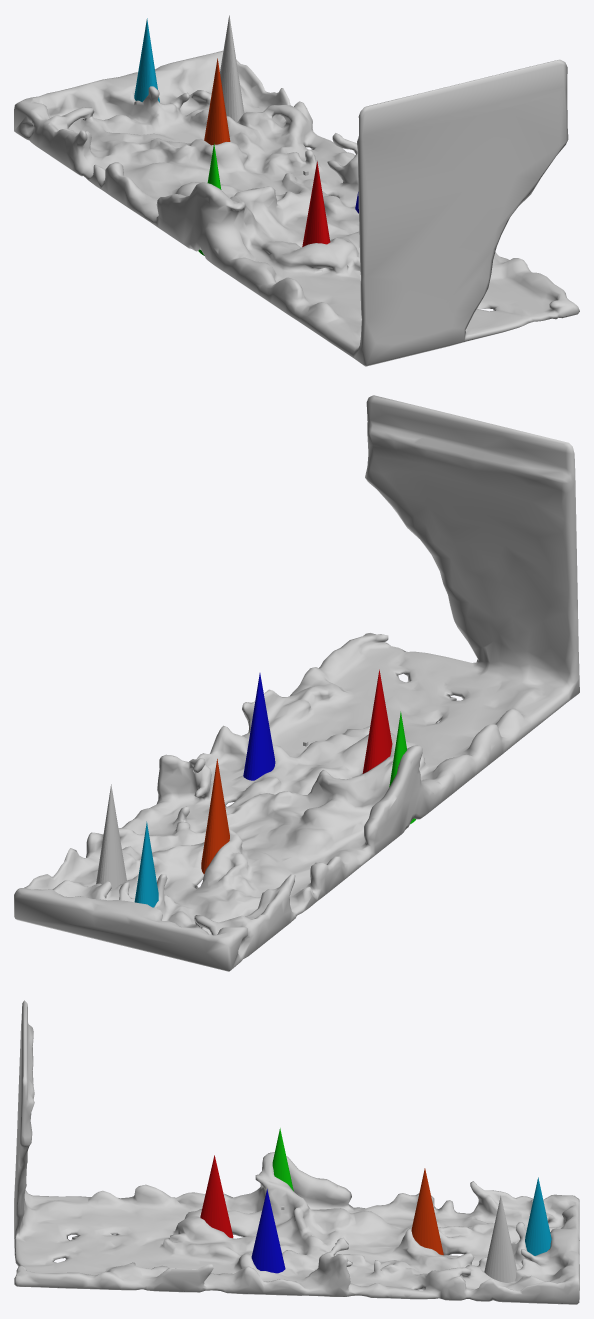
The picture shows the model from 3 angles, top to bottom: view 1: azimuth 30°, elevation 25°; view 2: azimuth 150°, elevation 25°; view 3: azimuth 270°, elevation 25°; orthographic projection. The views are drawn at different scales.
Visible parts, largest first — view 1: Liquid_Domain, 円錐, 円錐.001, 円錐.004, 円錐.005; view 2: Liquid_Domain, 円錐.002, 円錐, 円錐.004, 円錐.001, 円錐.005; view 3: Liquid_Domain, 円錐, 円錐.002, 円錐.004, 円錐.001, 円錐.005, 円錐.003.
Part boxes in pixels (x1,y1,x2,y2): Liquid_Domain: (14, 50, 579, 366); 円錐: (220, 15, 244, 122); 円錐.001: (302, 161, 330, 246); 円錐.004: (204, 58, 230, 145); 円錐.005: (134, 18, 159, 102); Liquid_Domain: (14, 395, 579, 971); 円錐.002: (243, 673, 275, 780); 円錐: (96, 784, 126, 890); 円錐.004: (201, 759, 229, 873); 円錐.001: (362, 669, 392, 773); 円錐.005: (134, 821, 158, 907); Liquid_Domain: (14, 1000, 579, 1304); 円錐: (484, 1195, 516, 1282); 円錐.002: (251, 1189, 285, 1273); 円錐.004: (411, 1168, 443, 1255); 円錐.001: (200, 1155, 233, 1238); 円錐.005: (525, 1177, 551, 1255); 円錐.003: (272, 1128, 293, 1191).
Bounding box in the file's own units: 129 × 158 × 361.
